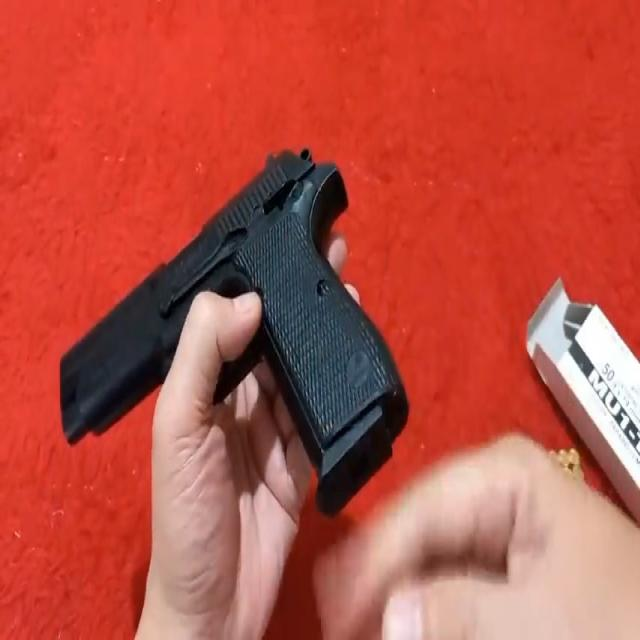handgun: (56, 145, 415, 498)
